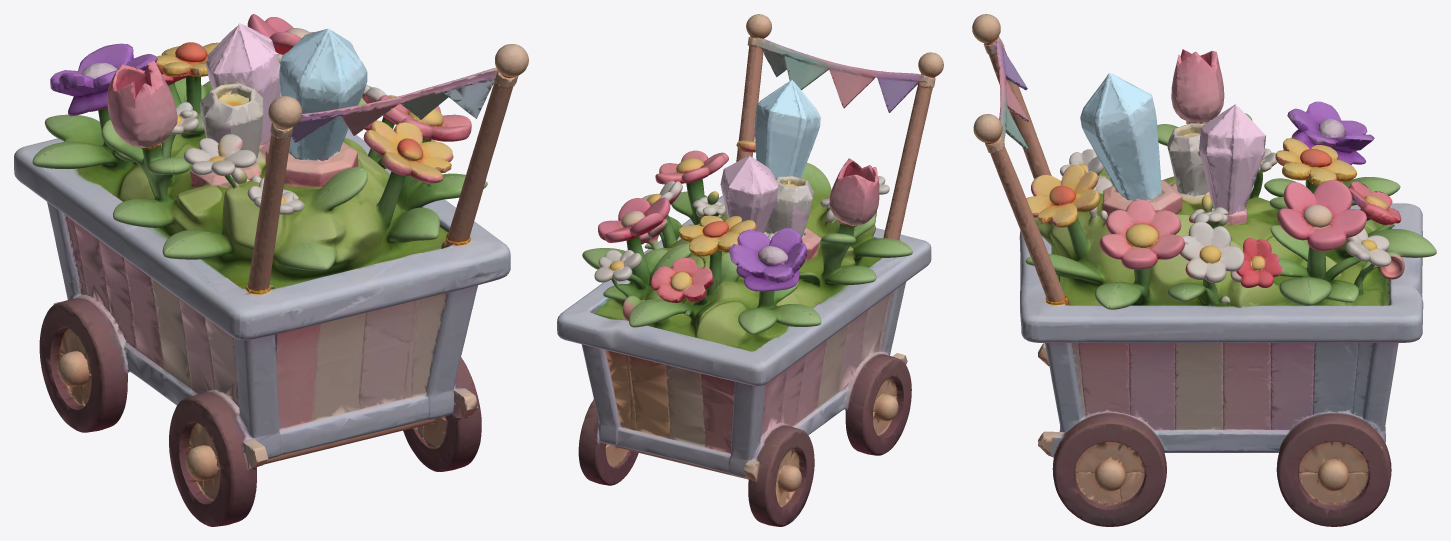
Rendered from prop_flowercart.glb.
The picture shows the model from 3 angles, left to right: view 1: azimuth 30°, elevation 25°; view 2: azimuth 150°, elevation 25°; view 3: azimuth 270°, elevation 25°; orthographic projection. The views are drawn at different scales.
Parts seen in each view (by area): view 1: tripo_node_e5349553-5edd-42cd-8b73-a47defaecbb1; view 2: tripo_node_e5349553-5edd-42cd-8b73-a47defaecbb1; view 3: tripo_node_e5349553-5edd-42cd-8b73-a47defaecbb1.
Boxes of the visible parts, x1=… form: tripo_node_e5349553-5edd-42cd-8b73-a47defaecbb1: x1=14, y1=14, x2=528, y2=526; tripo_node_e5349553-5edd-42cd-8b73-a47defaecbb1: x1=557, y1=14, x2=943, y2=526; tripo_node_e5349553-5edd-42cd-8b73-a47defaecbb1: x1=972, y1=14, x2=1436, y2=526.
Bounding box in the file's own units: 0.7066 × 0.9762 × 0.996.
Materials: 1 (1 with a texture image).
